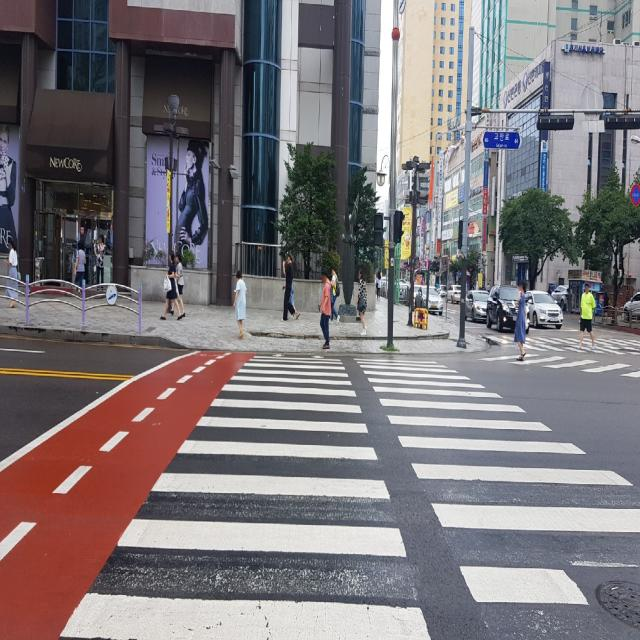횡단보도: (60, 354, 640, 639)
